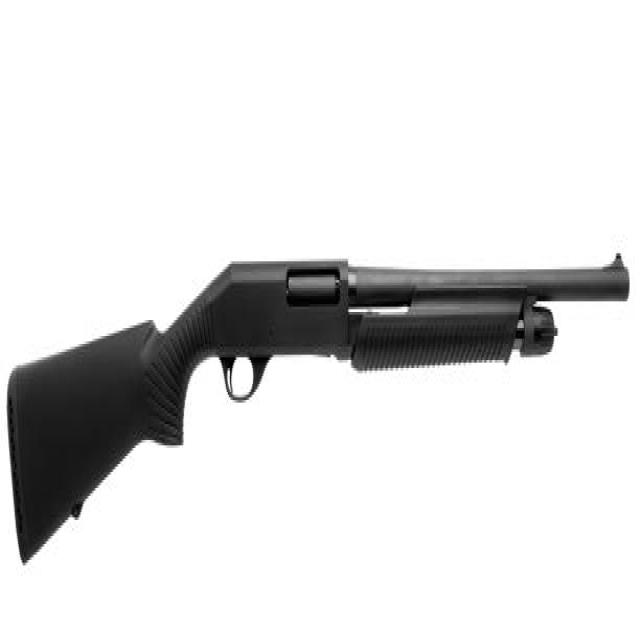rifle: (8, 239, 630, 585)
